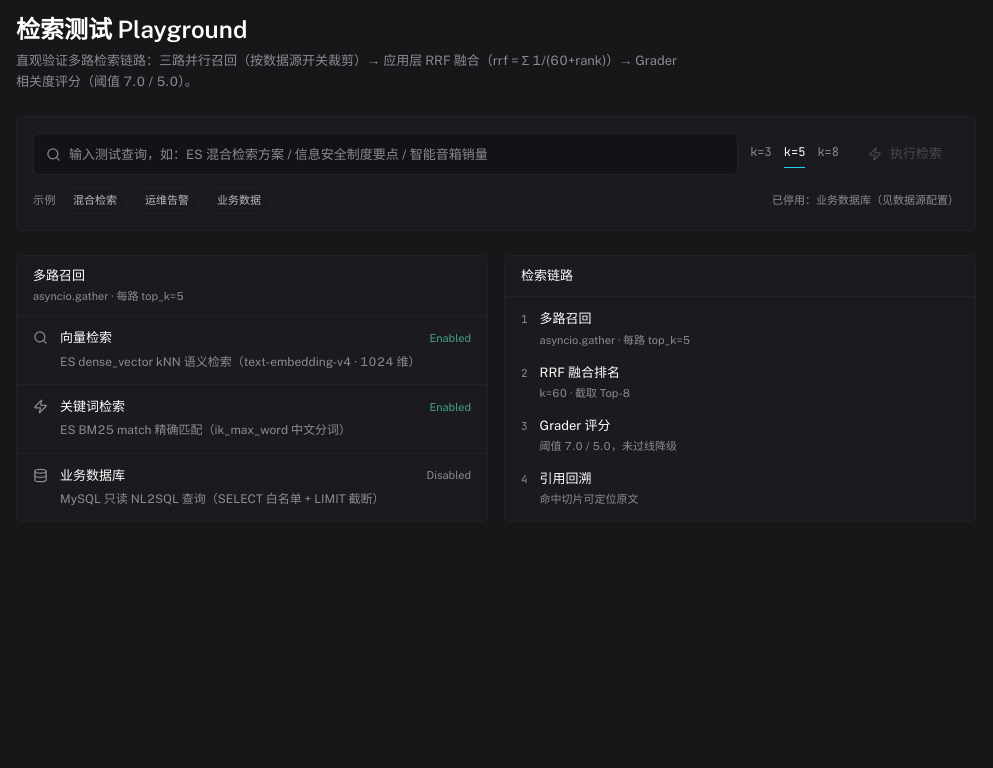
Test case: PlaygroundView › 融合结果展示 RRF 分与来源路
Step 1. Type "q" into the field with placeholder "输入测试查询，如：ES 混合检索方案 / 信息安全制度要点 / 智能音箱销量" → (397, 154), box [69,134,725,174]
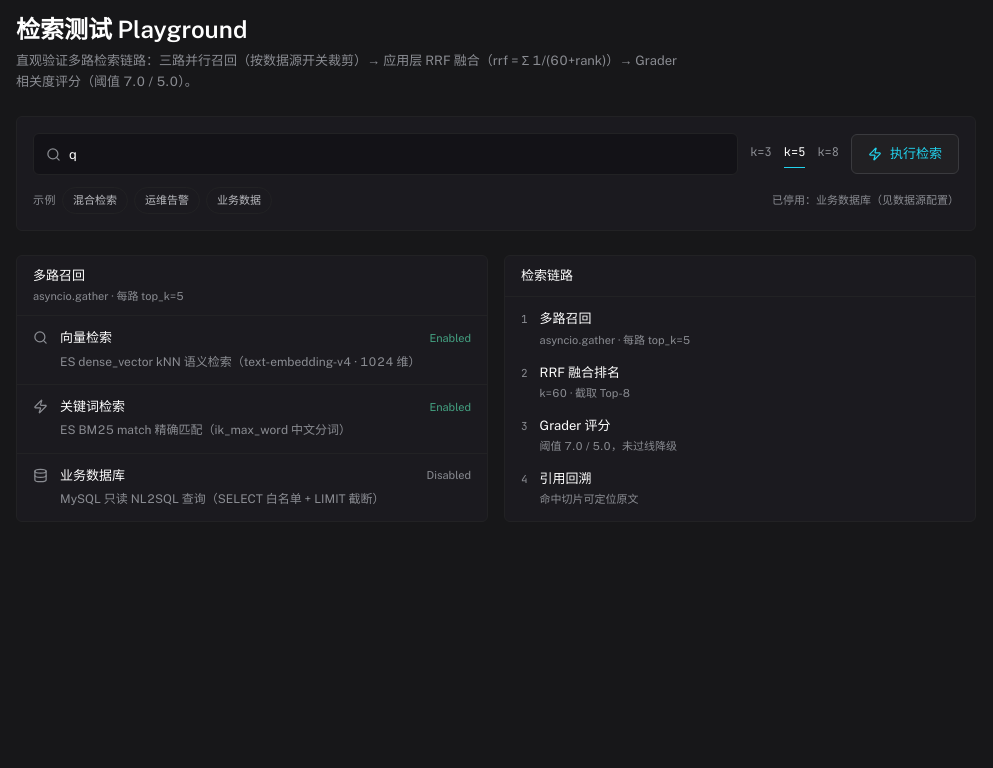
Step 2. Click the button "执行检索" → (905, 154), box [851,134,959,174]
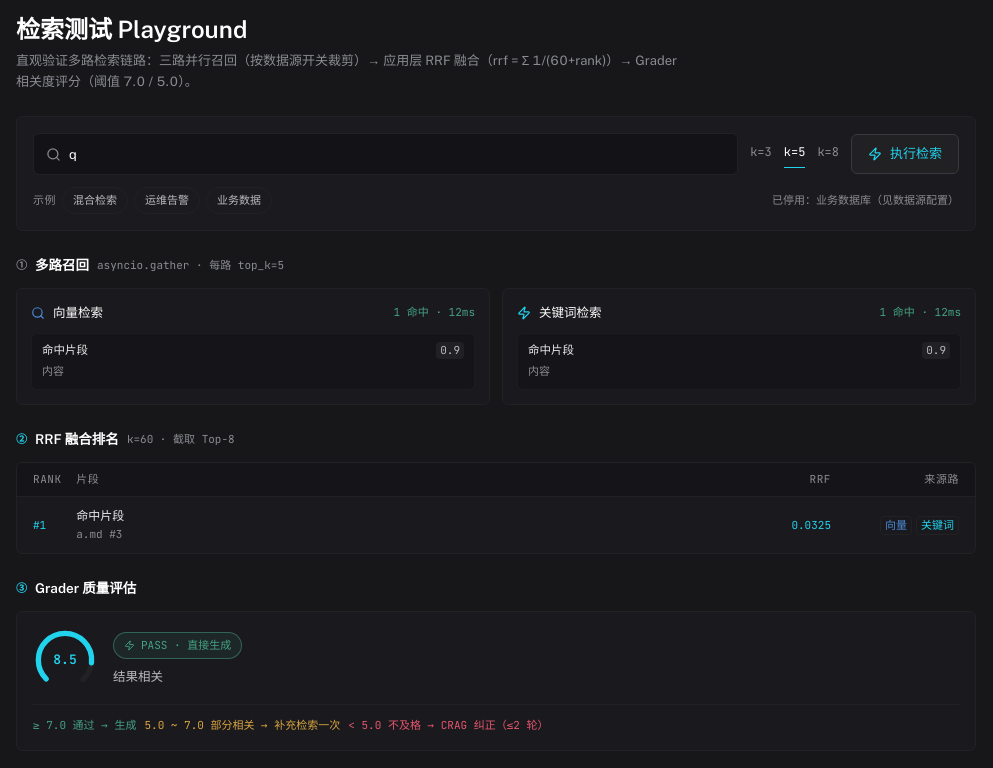
Expected: the text "0.0325" is shown, [791,518,831,532]
